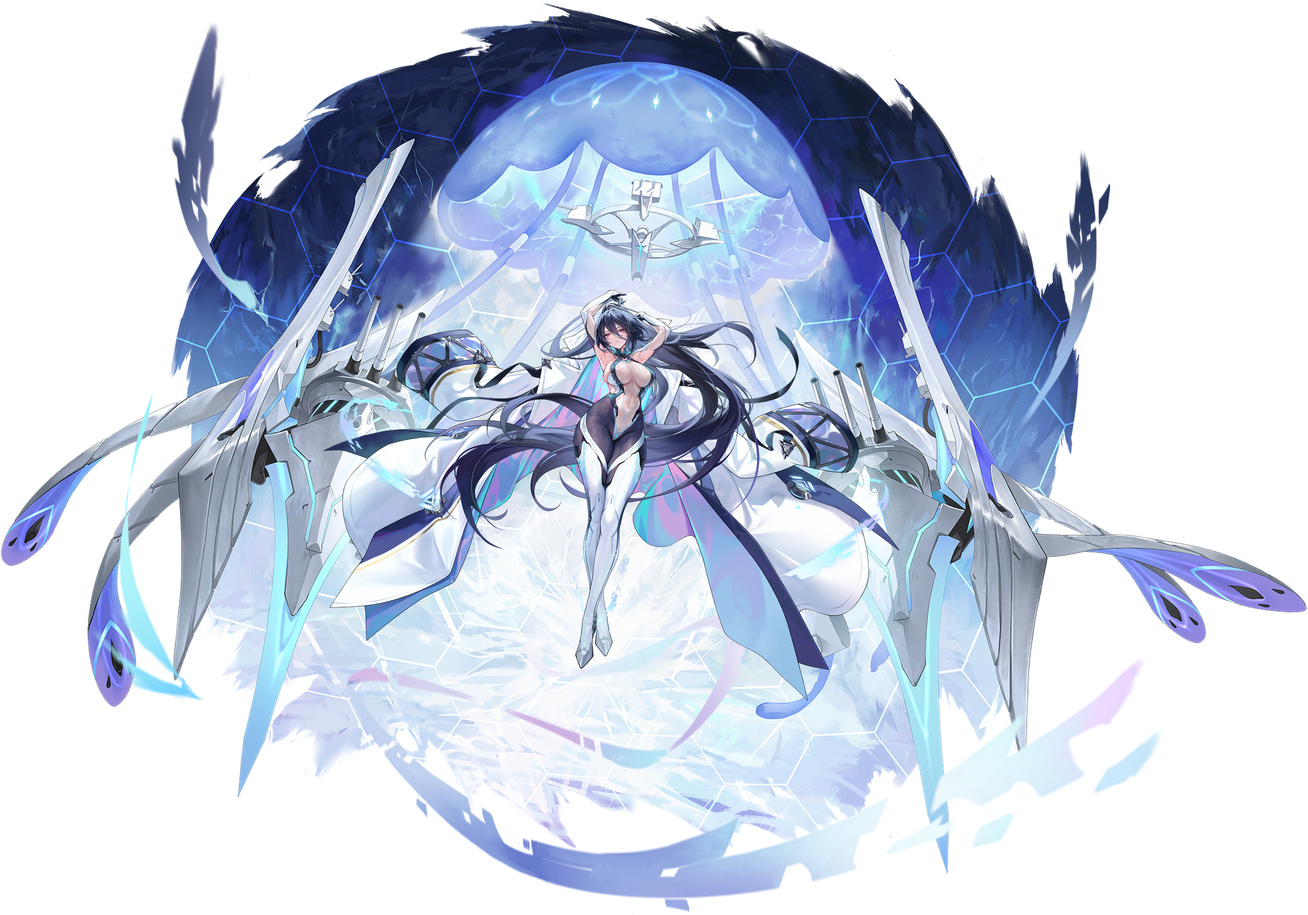person: (440, 254, 857, 739)
